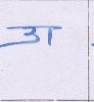aa_matra: (48, 29, 52, 45)
